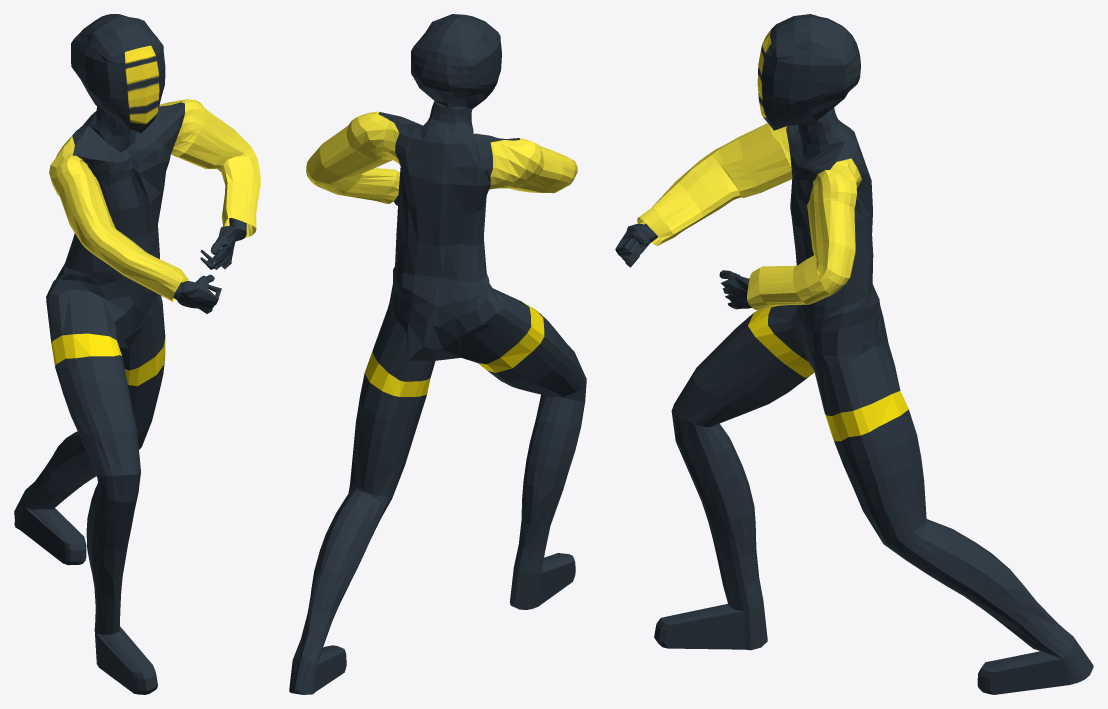
File: Sentry_Hit_Stun_000004.obj
3 renders of one model, left to right at view 1: azimuth 30°, elevation 25°; view 2: azimuth 150°, elevation 25°; view 3: azimuth 270°, elevation 25°, orthographic. The views are drawn at different scales.
Visible parts, largest first — view 1: Cube; view 2: Cube; view 3: Cube.
Boxes of the visible parts, left/top/right/bottom form: Cube: left=14, top=14, right=260, bottom=694; Cube: left=289, top=14, right=586, bottom=694; Cube: left=615, top=14, right=1093, bottom=694.
Size of the model in its own units: 1.35 by 3.54 by 2.36.
